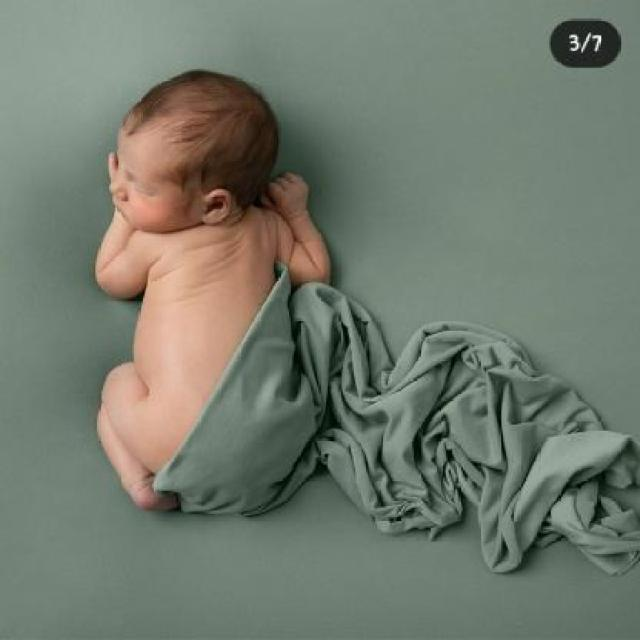baby: (87, 67, 330, 520)
